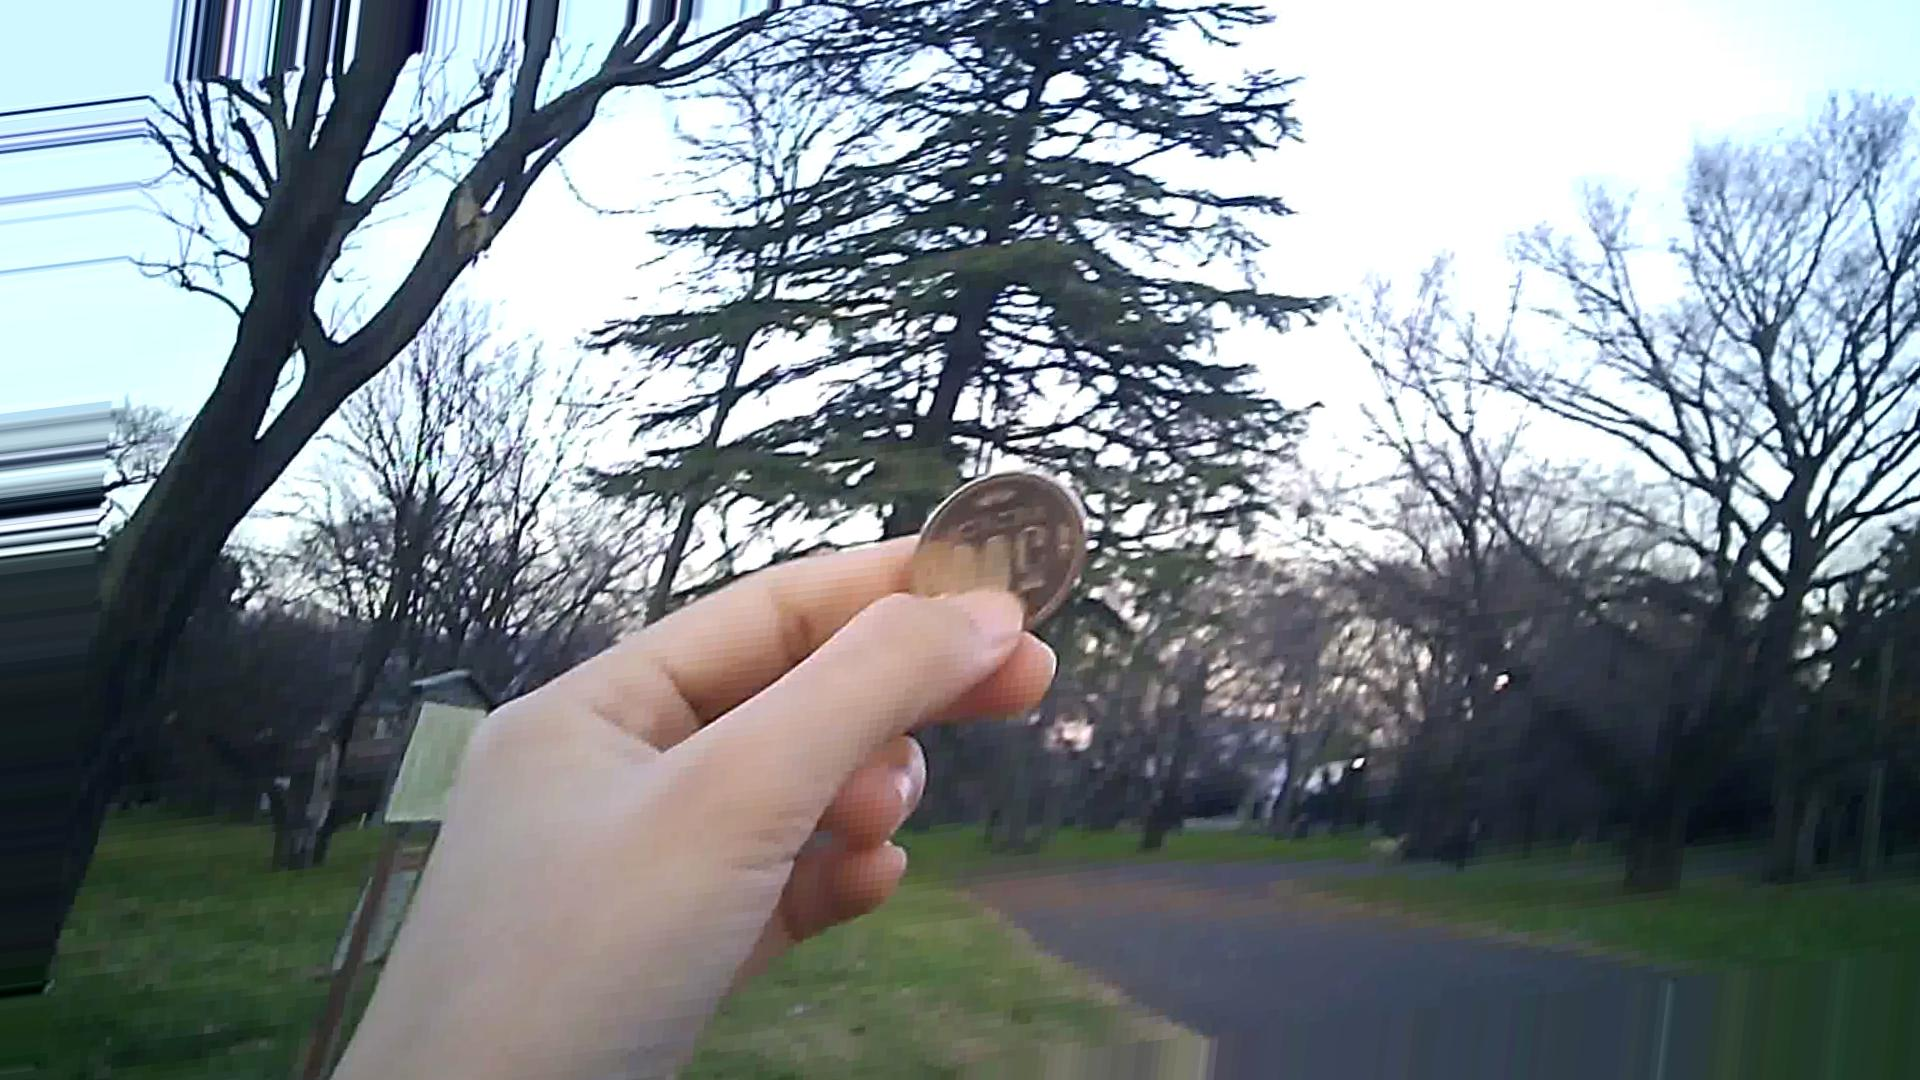500 Yen: (915, 451, 1105, 624)
